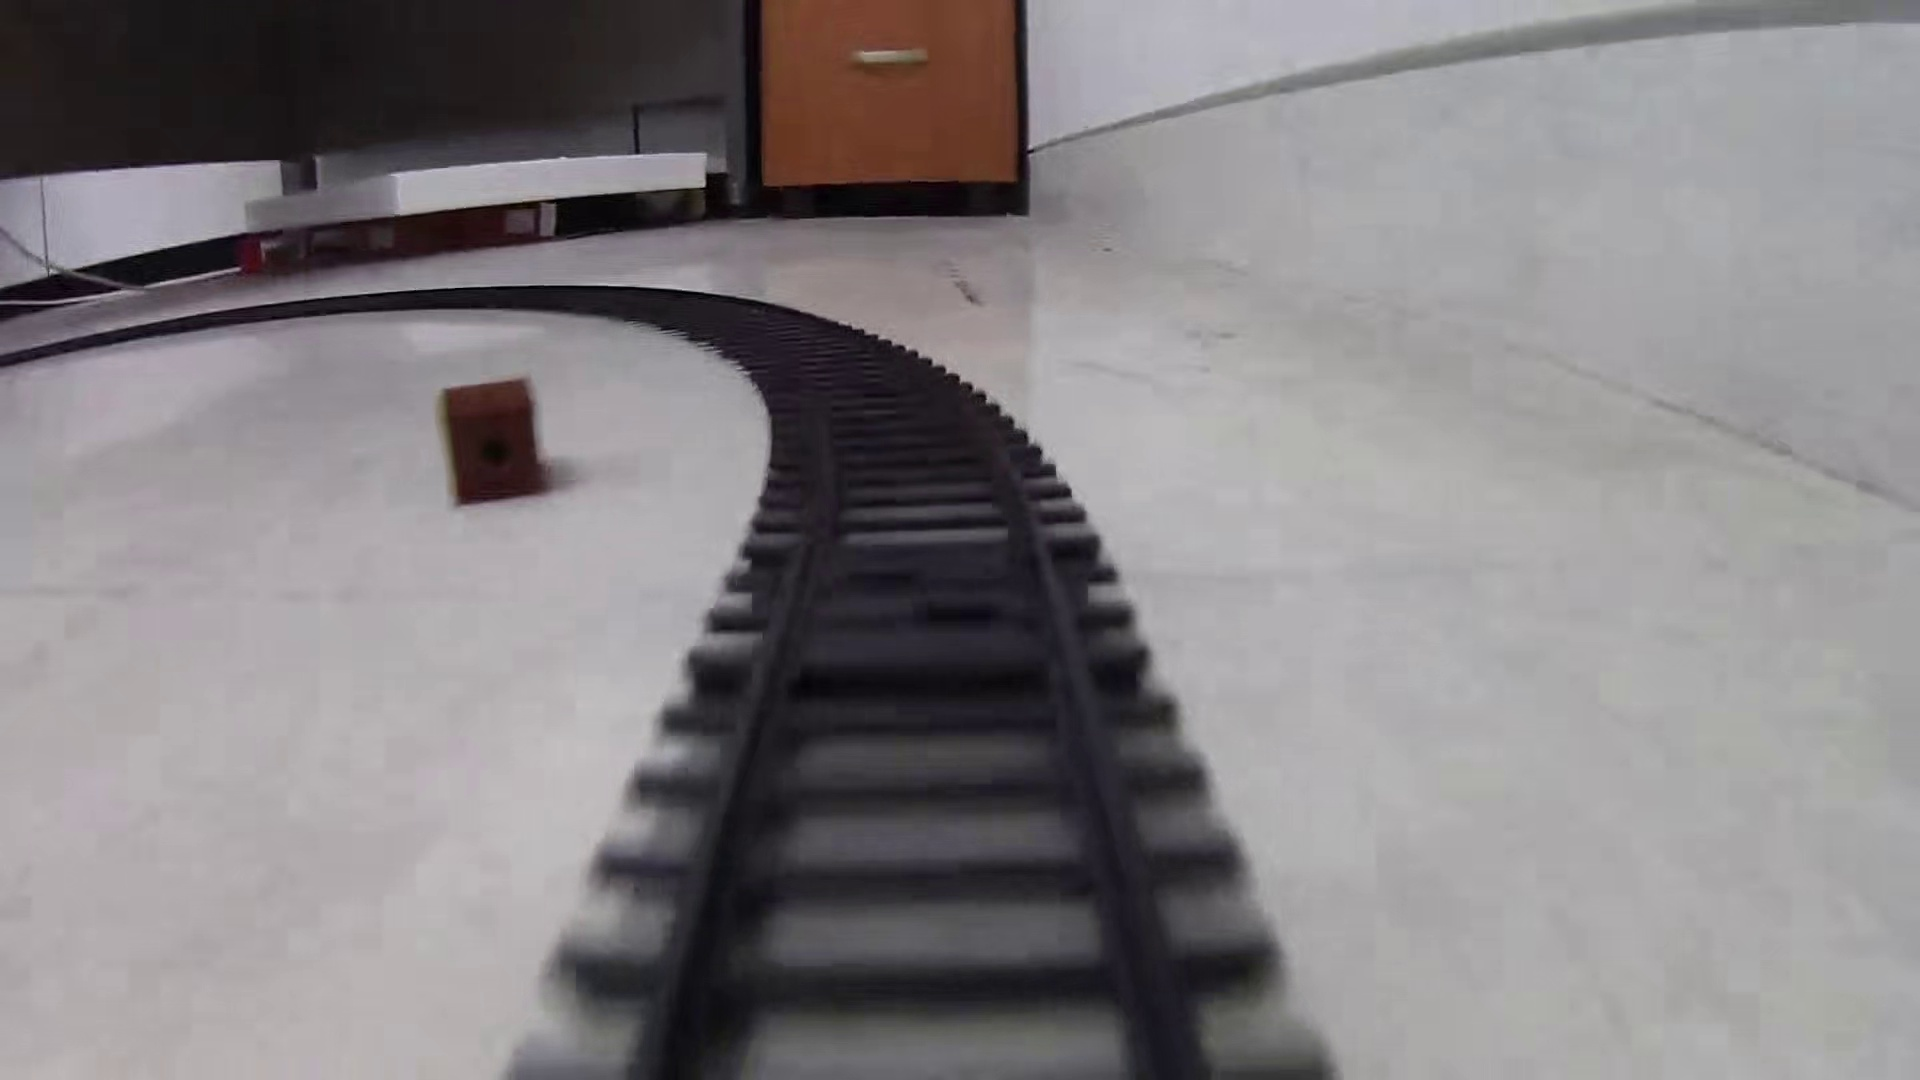box: (435, 379, 556, 507)
